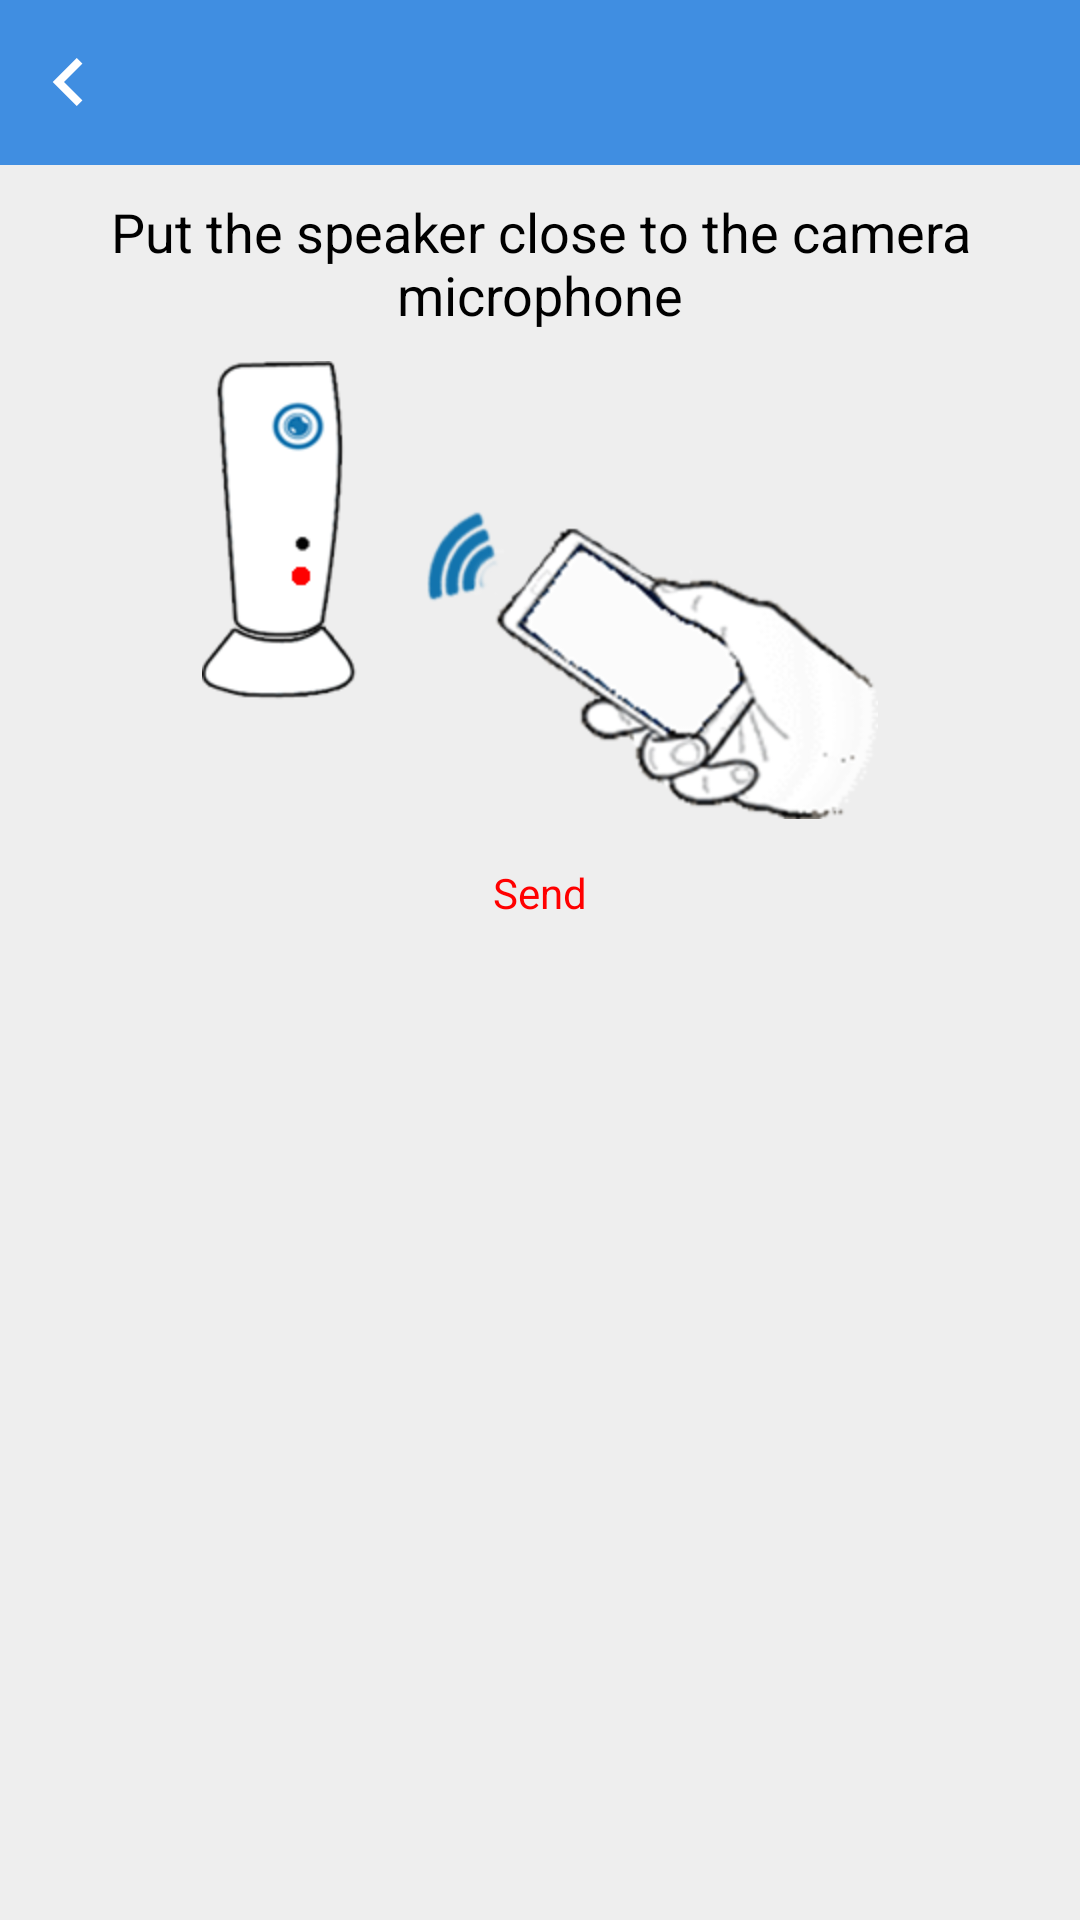

Where to tap for icons on this 1080 x 1920 app screen, as (x,y):
back: (68,82)
